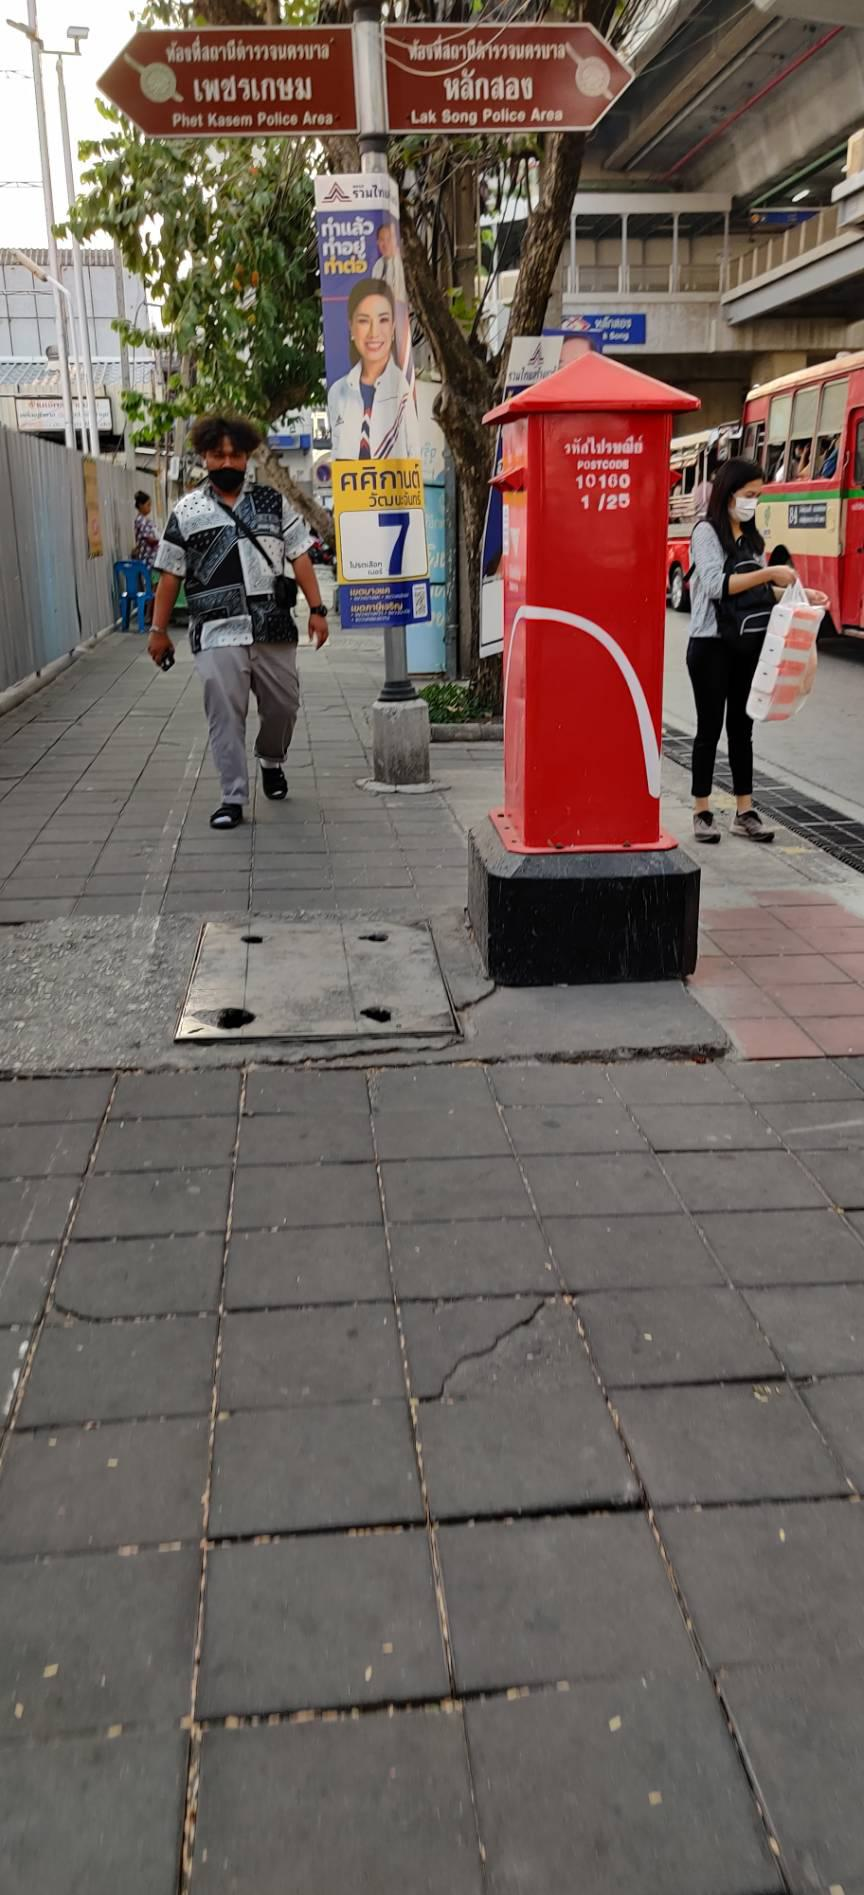Banner: (307, 157, 427, 638)
